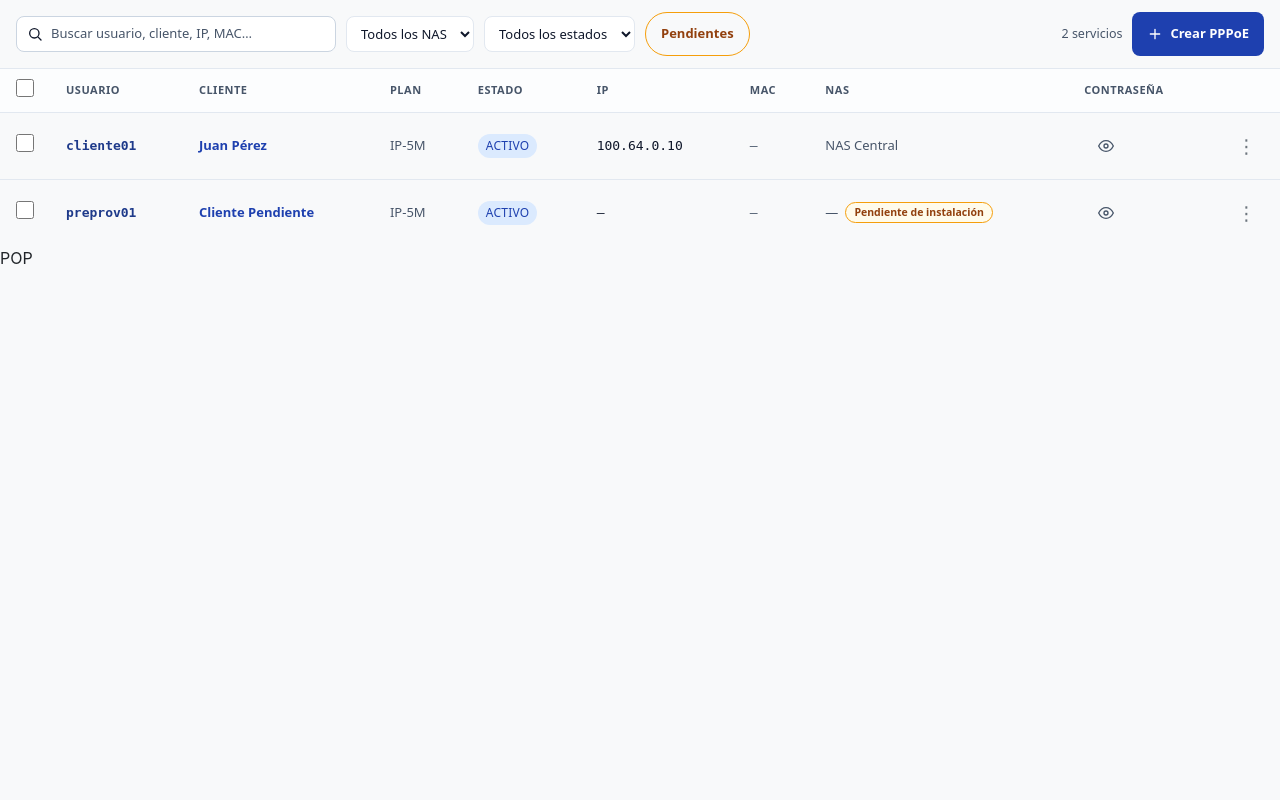
S5.2 (modal crear): "Sin router — auto-instalación" › es la PRIMERA opción del selector NAS, sin romper la preselección del flujo con router
What coordinates should you click on to do the following:
click the button "Crear PPPoE"
I would click on:
 (1198, 34)
Its box is x1=1132 y1=12 x2=1264 y2=56.
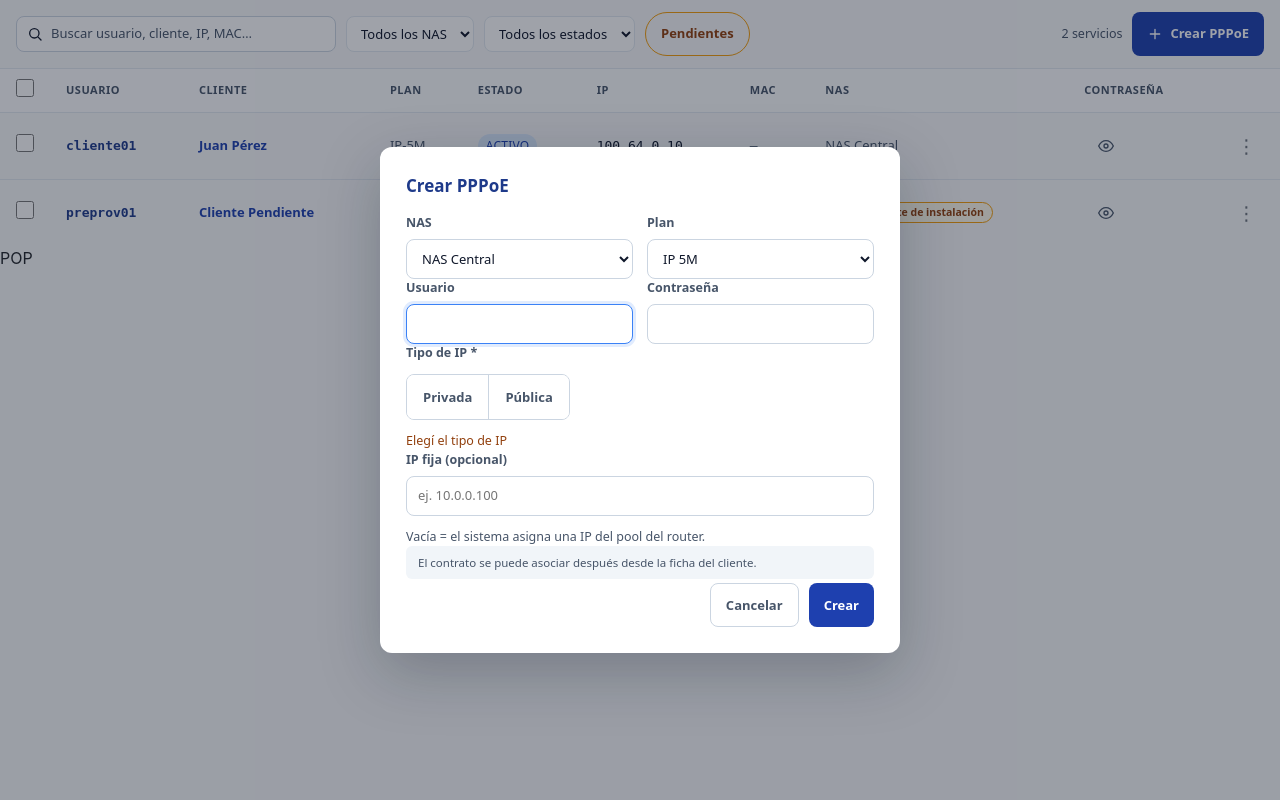
Now the dropdown labelled "NAS" shows "NAS Central", box x1=406 y1=239 x2=633 y2=279
